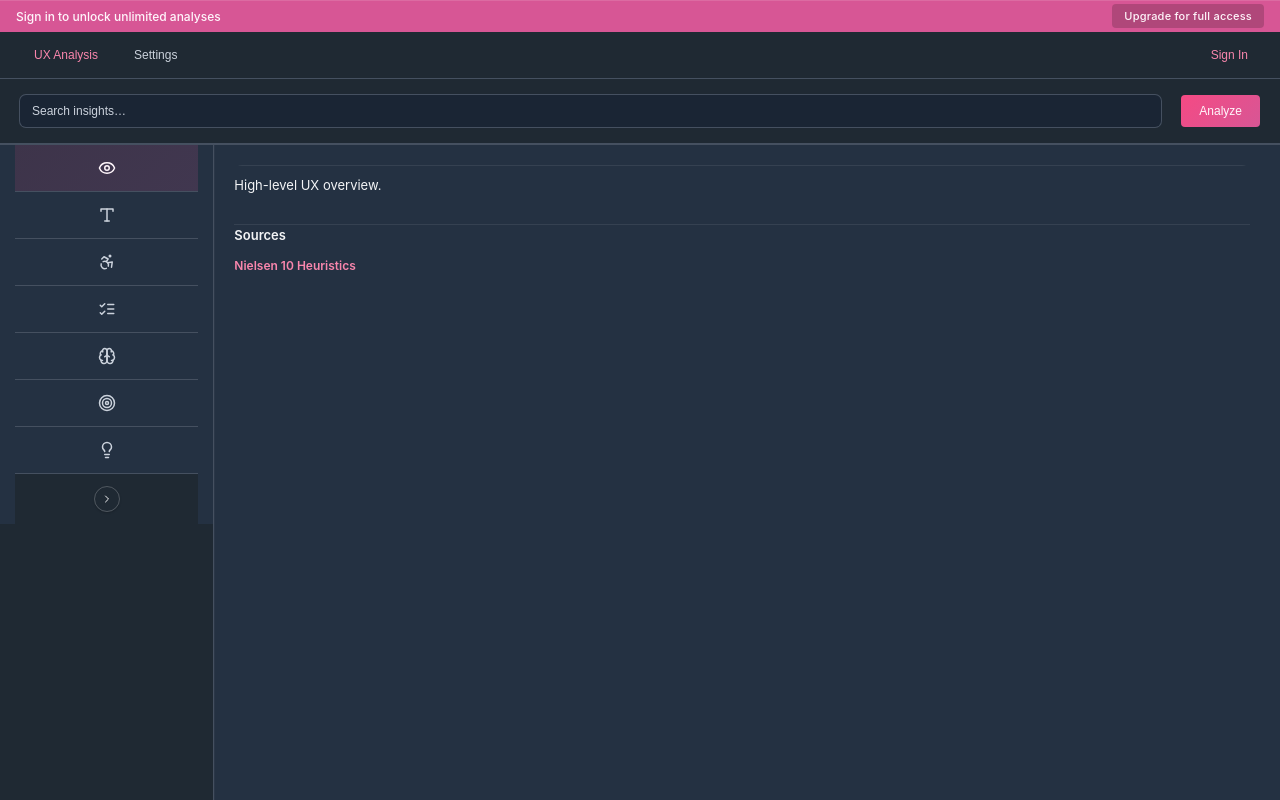
Test: App: progress overlay appears immediately › shows the skeleton overlay while keeping stale insights hidden during a second run
Expected: the panel with id "analysis-panel-ux-summary" is shown, [234,165,1250,273]
Click the button "Analyze" at (1221, 111), box [1181,95,1260,127]
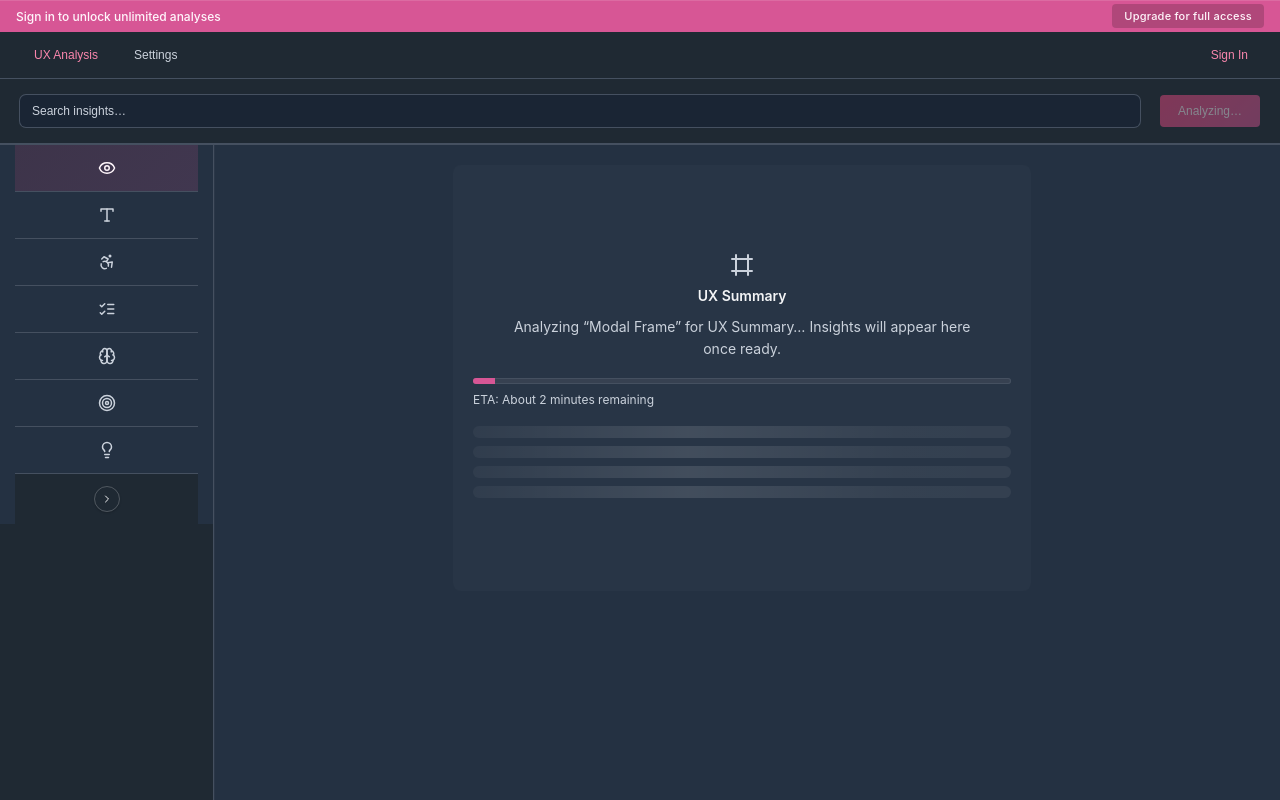
Now the message that starts with "UX Summary" is shown, box [453,165,1031,591]
Now the element with class "global-progress" is shown, box [473,378,1011,410]
